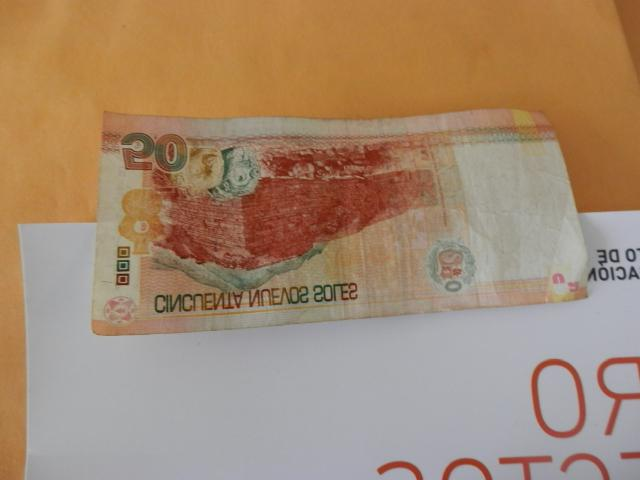B50: (91, 111, 588, 332)
